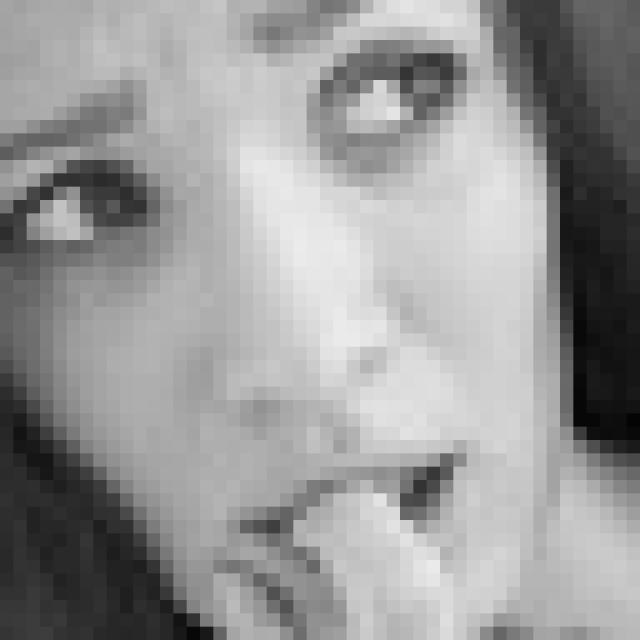fear: (0, 6, 477, 581)
